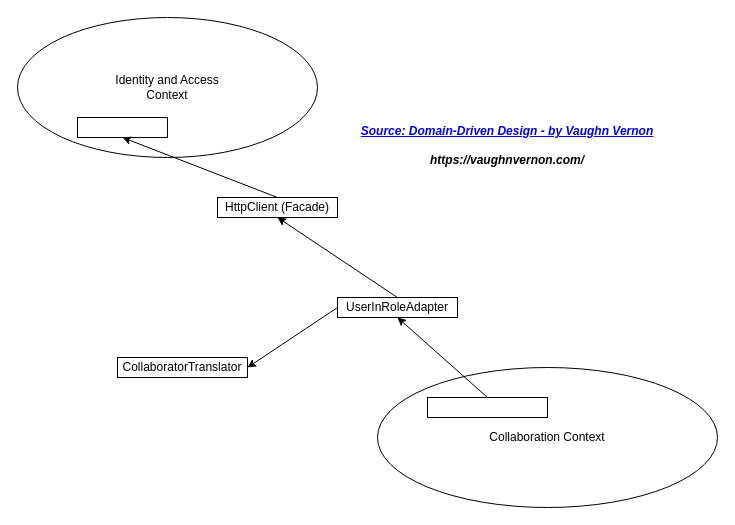
Image size: 735x525. Some labels were removed from this diagram. The box of each missing label's shape, as (x1, y1, x2, y2) in pixels:
CollaboratorService: (426, 396, 548, 418)
UserResource: (76, 116, 168, 138)
